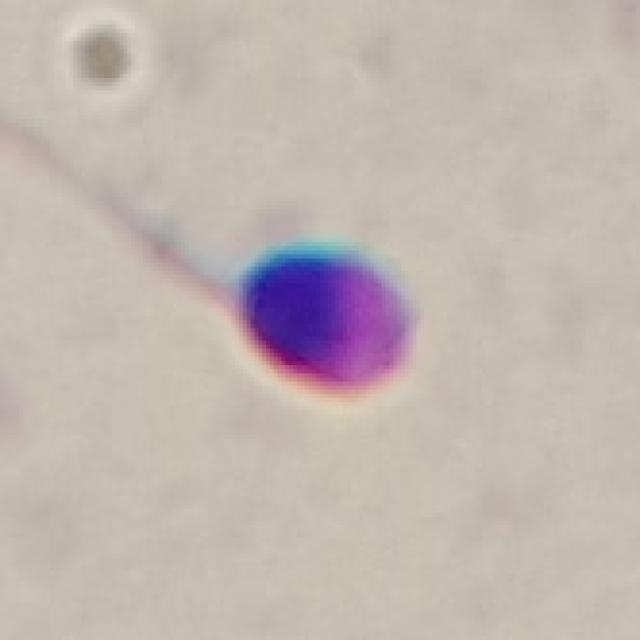normal sperm: (5, 128, 435, 418)
